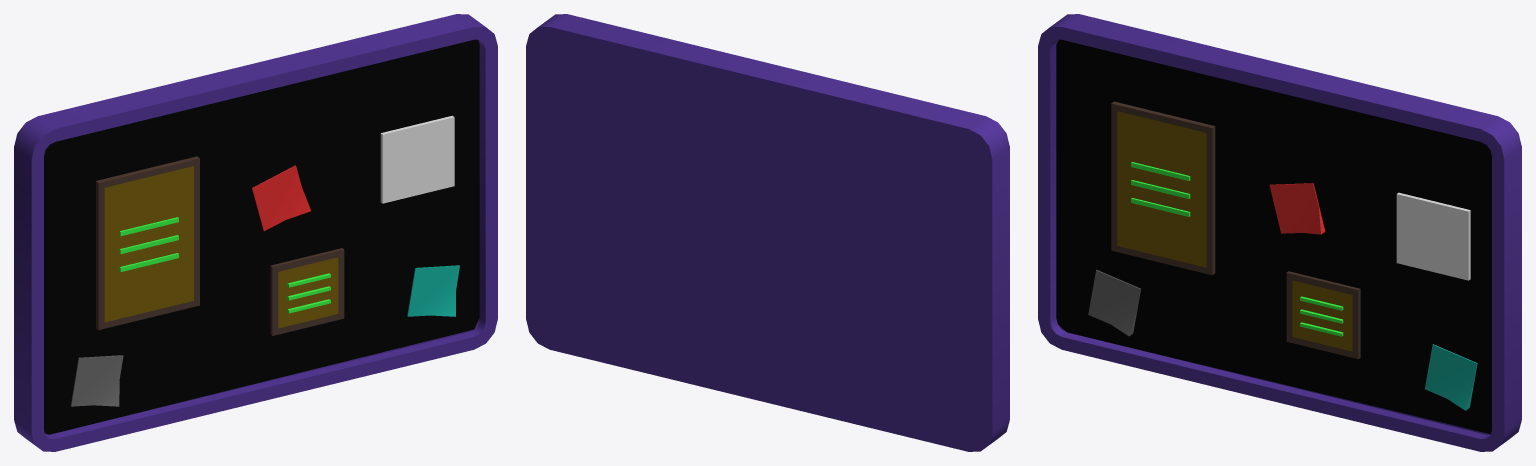
The model's file is corkboard2.fbx.
3 renders of one model, left to right at view 1: azimuth 30°, elevation 25°; view 2: azimuth 150°, elevation 25°; view 3: azimuth 330°, elevation 25°, orthographic.
Parts seen in each view (by area): view 1: corkboard2; view 2: corkboard2; view 3: corkboard2.
Boxes of the visible parts, x1=… form: corkboard2: x1=14, y1=14, x2=497, y2=451; corkboard2: x1=526, y1=14, x2=1009, y2=451; corkboard2: x1=1038, y1=14, x2=1521, y2=451.
Bounding box in the file's own units: 83.48 × 55.24 × 5.44.
